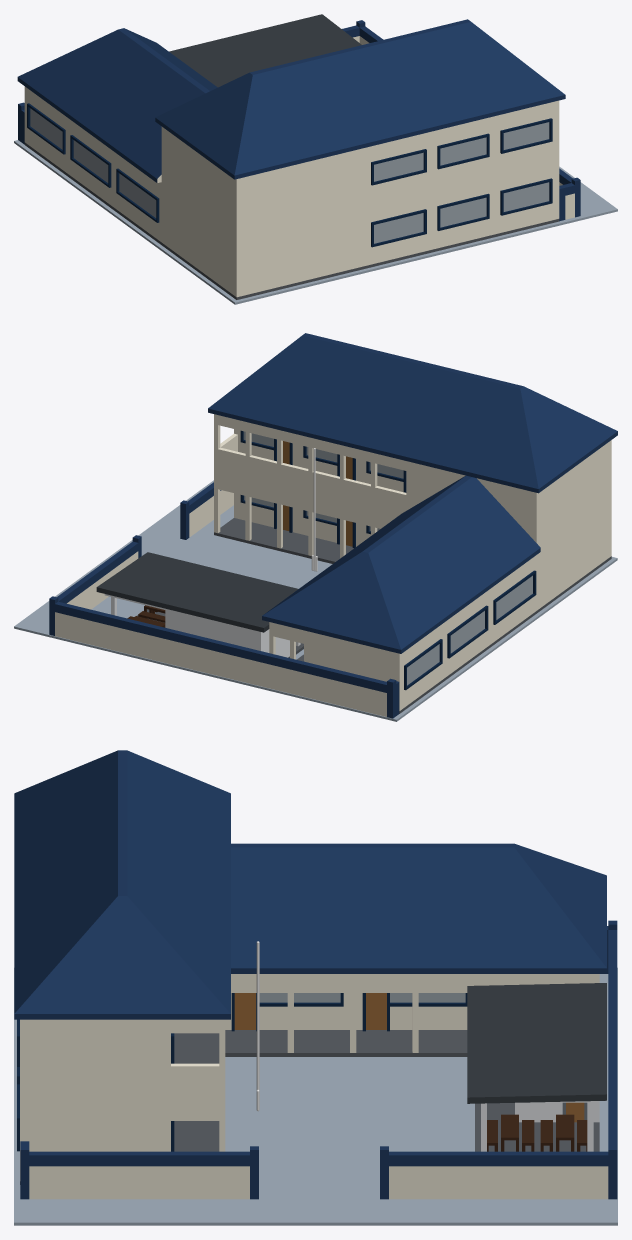
File: school-junior.glb
3 views of the same model, one above another, from view 1: azimuth 30°, elevation 25°; view 2: azimuth 150°, elevation 25°; view 3: azimuth 270°, elevation 25° (orthographic). The views are drawn at different scales.
Visible parts, largest first — view 1: school-junior; view 2: school-junior; view 3: school-junior.
Part boxes in pixels (x1=…): school-junior: x1=14, y1=14, x2=617, y2=304; school-junior: x1=14, y1=333, x2=617, y2=721; school-junior: x1=14, y1=750, x2=617, y2=1225.
Bounding box in the file's own units: 20.02 × 9.4 × 20.
